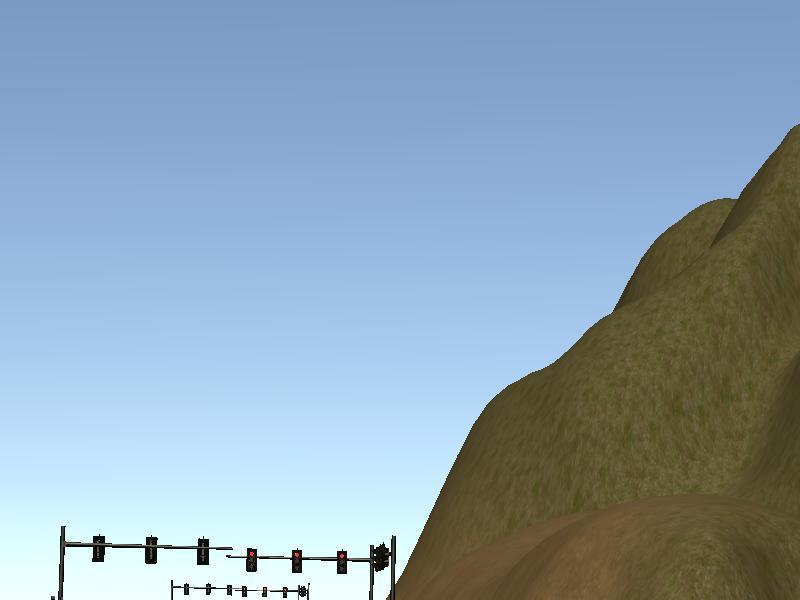Red: (245, 547, 258, 573), (336, 549, 347, 576), (291, 549, 303, 572)
